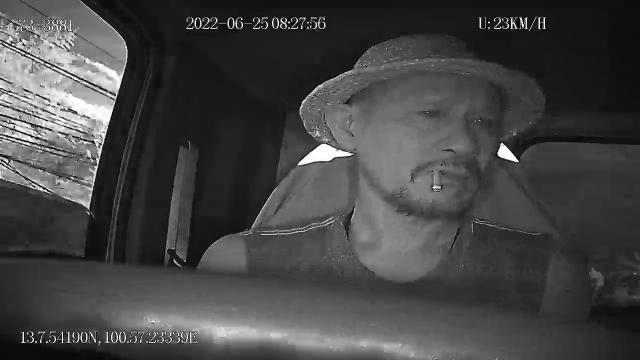Smoking: (428, 165, 444, 191)
